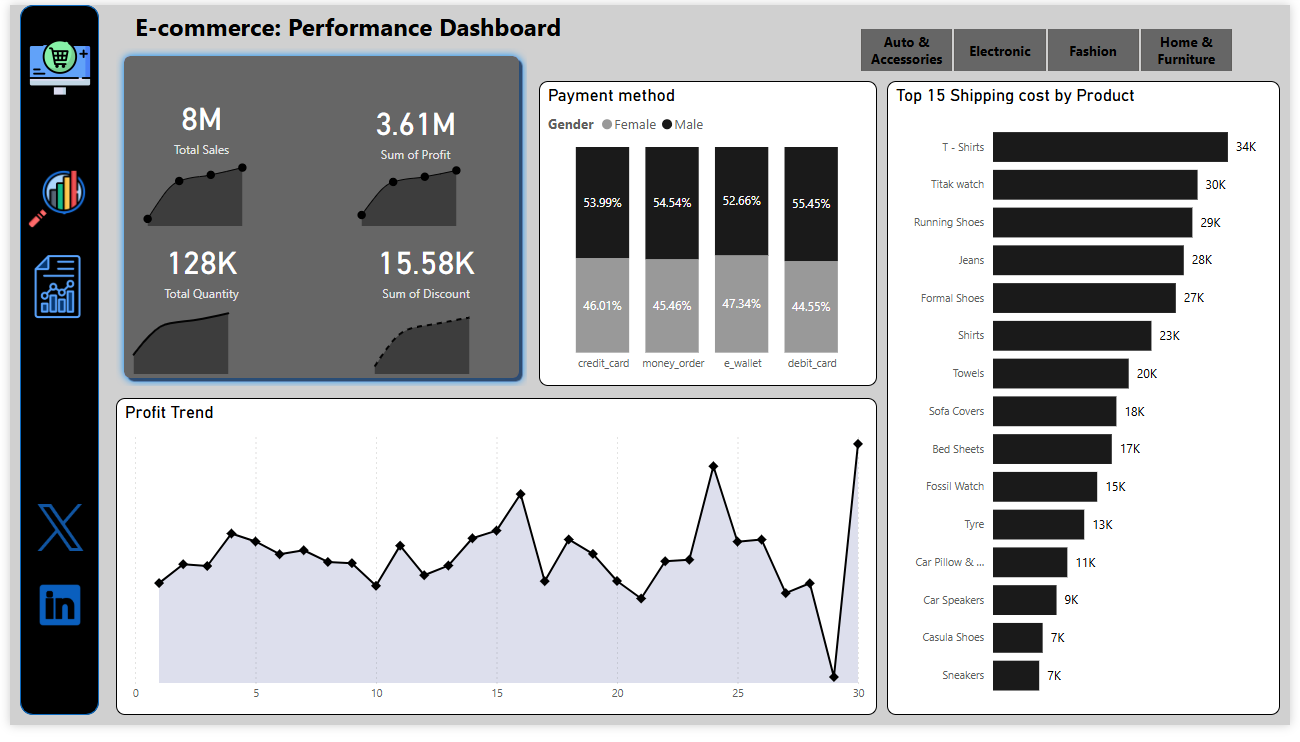

The page's visual inventory and layout, read from the dashboard file:
{"tool":"powerbi","page":{"name":"Dashboard ","canvas":[1280,720],"ordinal":0},"visuals":[{"type":"shape","box":[10,0,78.6,710],"z":0},{"type":"shape","box":[105.7,42.9,411.4,338.6],"z":1000},{"type":"card","fields":{"Values":["E_commerce_Dataset.Total Sales"]},"box":[133.3,75.9,116.7,88.5],"z":4000},{"type":"card","fields":{"Values":["Sum(E_commerce_Dataset.Profit)"]},"box":[347.2,84.6,116.7,79.8],"z":5000},{"type":"card","fields":{"Values":["E_commerce_Dataset.Total Quantity"]},"box":[133.3,225.7,116.7,76.8],"z":6000},{"type":"card","fields":{"Values":["Sum(E_commerce_Dataset.Discount)"]},"box":[357,225.7,117.7,76.8],"z":7000},{"type":"lineChart","title":"Profit Trend","fields":{"Category":["E_commerce_Dataset.Order_Date.Variation.Date Hierarchy.Year","E_commerce_Dataset.Order_Date.Variation.Date Hierarchy.Quarter","E_commerce_Dataset.Order_Date.Variation.Date Hierarchy.Month","E_commerce_Dataset.Order_Date.Variation.Date Hierarchy.Day"],"Y":["Sum(E_commerce_Dataset.Profit)"]},"box":[105.7,392.9,761.4,317.1],"z":8000},{"type":"hundredPercentStackedColumnChart","title":"Payment method","fields":{"Category":["E_commerce_Dataset.Payment_method"],"Y":["Sum(E_commerce_Dataset.Sales)"],"Series":["E_commerce_Dataset.Gender"]},"box":[528.6,75.7,338.6,305.7],"z":9000},{"type":"barChart","title":"Top 15 Shipping cost by Product","fields":{"Category":["E_commerce_Dataset.Product"],"Y":["Sum(E_commerce_Dataset.Shipping_Cost)"]},"box":[877.1,75.7,392.9,634.3],"z":10000},{"type":"lineChart","fields":{"Y":["Sum(E_commerce_Dataset.Sales)"],"Category":["E_commerce_Dataset.Order_Date.Variation.Date Hierarchy.Quarter"]},"box":[120,144.3,130,81.4],"z":11000},{"type":"lineChart","fields":{"Category":["E_commerce_Dataset.Order_Date.Variation.Date Hierarchy.Quarter"],"Y":["E_commerce_Dataset.Total Quantity"]},"box":[105.7,292.9,130,81.4],"z":12000},{"type":"lineChart","fields":{"Category":["E_commerce_Dataset.Order_Date.Variation.Date Hierarchy.Quarter"],"Y":["Sum(E_commerce_Dataset.Profit)"]},"box":[334.3,144.3,130,81.4],"z":13000},{"type":"lineChart","fields":{"Y":["Sum(E_commerce_Dataset.Discount)"],"Category":["E_commerce_Dataset.Order_Date.Variation.Date Hierarchy.Quarter"]},"box":[347.1,292.9,130,81.4],"z":14000},{"type":"textbox","box":[120,0,495.7,62.9],"z":15000},{"type":"slicer","fields":{"Values":["E_commerce_Dataset.Product_Category"]},"box":[824.8,16.5,421.2,51.6],"z":16000},{"type":"image","box":[4.3,25.7,91.4,74.3],"z":18000},{"type":"image","box":[24.3,572.9,51.4,54.3],"z":20000},{"type":"image","box":[15.7,494.3,68.6,57.1],"z":21000},{"type":"image","box":[10,158.6,74.3,70],"z":23000},{"type":"image","box":[4.3,244.3,85.7,74.3],"z":24000}]}

Visuals, with their boxes in screenshot pixels (x1, y1, x2, y2):
shape: BBox(17, 3, 96, 715)
shape: BBox(113, 46, 525, 385)
card - E_commerce_Dataset.Total Sales: BBox(140, 79, 257, 168)
card - Sum(E_commerce_Dataset.Profit): BBox(355, 88, 471, 168)
card - E_commerce_Dataset.Total Quantity: BBox(140, 229, 257, 306)
card - Sum(E_commerce_Dataset.Discount): BBox(364, 229, 482, 306)
"Profit Trend" lineChart: BBox(113, 397, 875, 715)
"Payment method" hundredPercentStackedColumnChart: BBox(536, 79, 875, 385)
"Top 15 Shipping cost by Product" barChart: BBox(885, 79, 1279, 715)
lineChart - Sum(E_commerce_Dataset.Sales) x E_commerce_Dataset.Order_Date.Variation.Date Hierarchy.Quarter: BBox(127, 148, 257, 229)
lineChart - E_commerce_Dataset.Order_Date.Variation.Date Hierarchy.Quarter x E_commerce_Dataset.Total Quantity: BBox(113, 297, 243, 378)
lineChart - E_commerce_Dataset.Order_Date.Variation.Date Hierarchy.Quarter x Sum(E_commerce_Dataset.Profit): BBox(342, 148, 472, 229)
lineChart - Sum(E_commerce_Dataset.Discount) x E_commerce_Dataset.Order_Date.Variation.Date Hierarchy.Quarter: BBox(354, 297, 485, 378)
textbox: BBox(127, 3, 623, 66)
slicer - E_commerce_Dataset.Product_Category: BBox(833, 20, 1255, 72)
image: BBox(11, 29, 103, 104)
image: BBox(31, 577, 83, 632)
image: BBox(22, 498, 91, 556)
image: BBox(17, 162, 91, 232)
image: BBox(11, 248, 97, 322)
